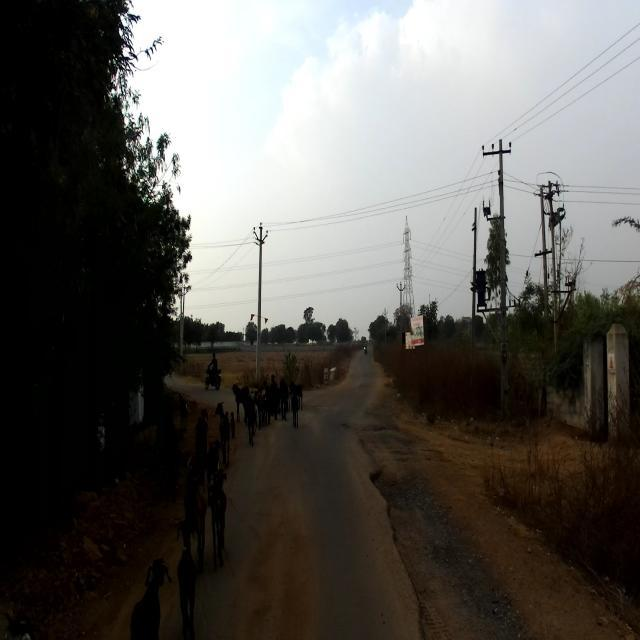Pothole: (329, 414, 438, 640), (442, 496, 551, 638)
